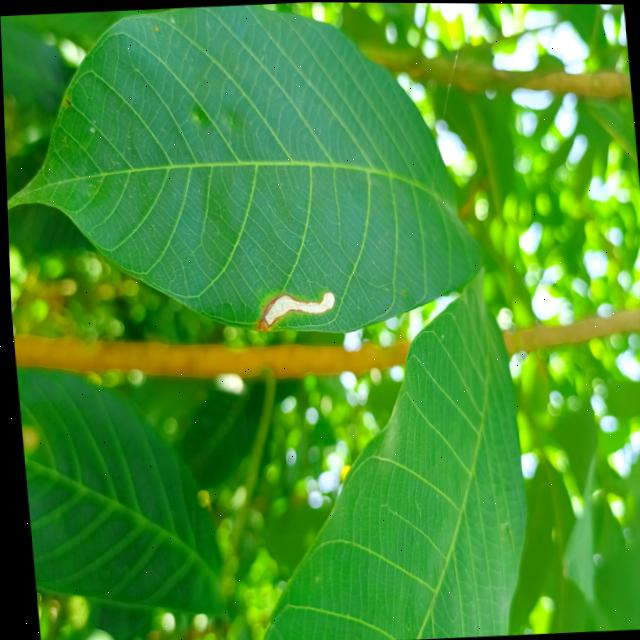Leaf-Blight: (259, 290, 334, 325)
